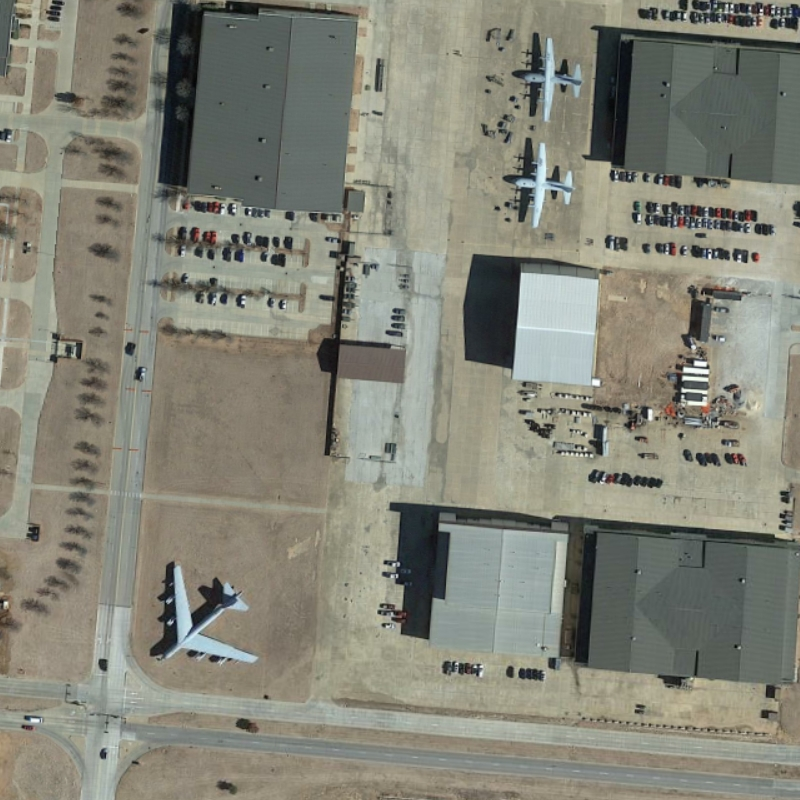A2: (504, 136, 583, 228), (513, 33, 589, 122)
A8: (148, 553, 263, 678)
